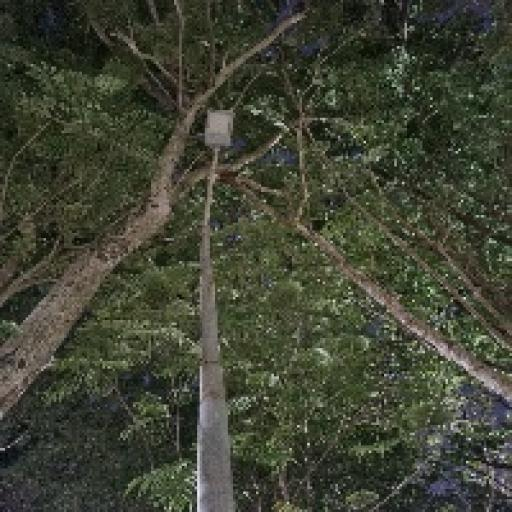Not Working: (184, 97, 250, 166)
